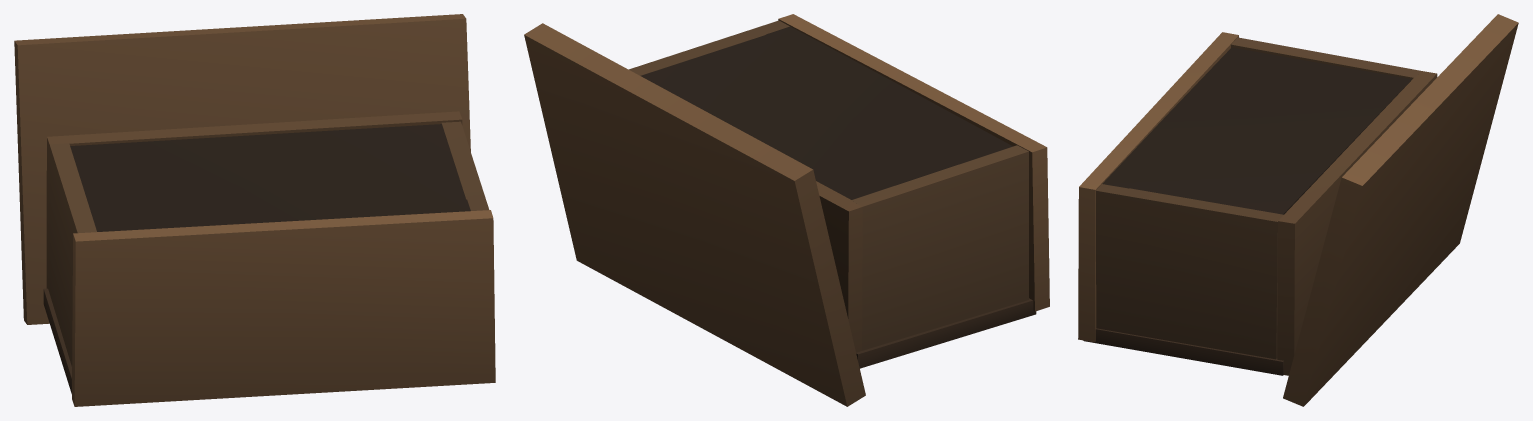
Rendered from ph_item_bone_box.glb.
The picture shows the model from 3 angles, left to right: view 1: azimuth 30°, elevation 25°; view 2: azimuth 150°, elevation 25°; view 3: azimuth 270°, elevation 25°; orthographic projection. The views are drawn at different scales.
Parts seen in each view (by area): view 1: ph_item_bone_box; view 2: ph_item_bone_box; view 3: ph_item_bone_box.
Boxes of the visible parts, left/top/right/bottom form: ph_item_bone_box: left=14, top=14, right=495, bottom=406; ph_item_bone_box: left=524, top=14, right=1049, bottom=406; ph_item_bone_box: left=1078, top=14, right=1518, bottom=406.
Bounding box in the file's own units: 0.3842 × 0.2023 × 0.3423.
